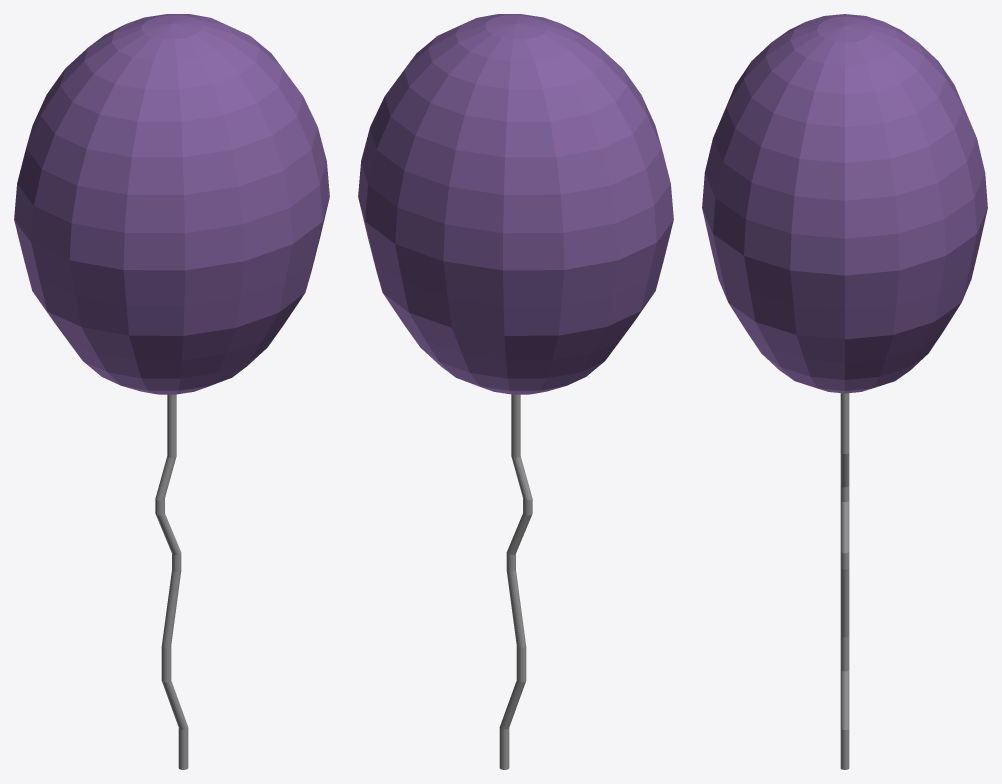
File: balaO2.fbx
3 views of the same model, side by side, from view 1: azimuth 30°, elevation 25°; view 2: azimuth 150°, elevation 25°; view 3: azimuth 270°, elevation 25° (orthographic).
Parts seen in each view (by area): view 1: Sphere; view 2: Sphere; view 3: Sphere.
Part boxes in pixels (left/top/right/bottom): Sphere: left=14, top=14, right=329, bottom=769; Sphere: left=358, top=14, right=673, bottom=769; Sphere: left=702, top=14, right=987, bottom=769.
Bounding box in the file's own units: 224 × 568 × 200.
